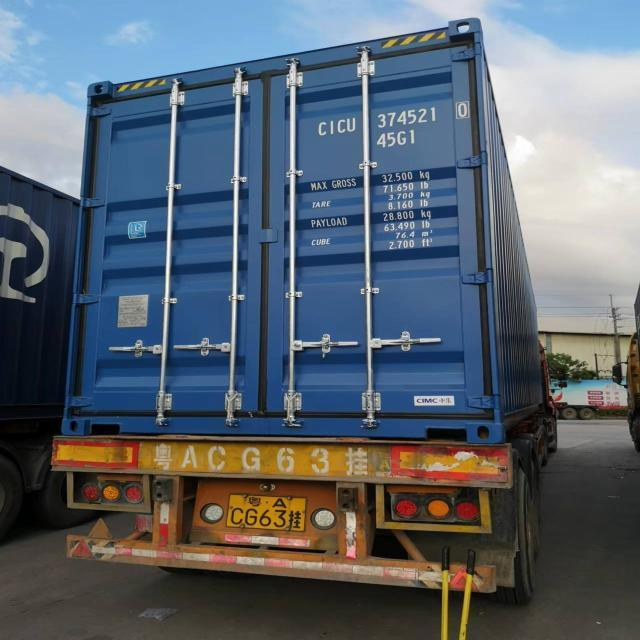ISO: (378, 128, 416, 148)
container_number: (320, 101, 470, 129)
